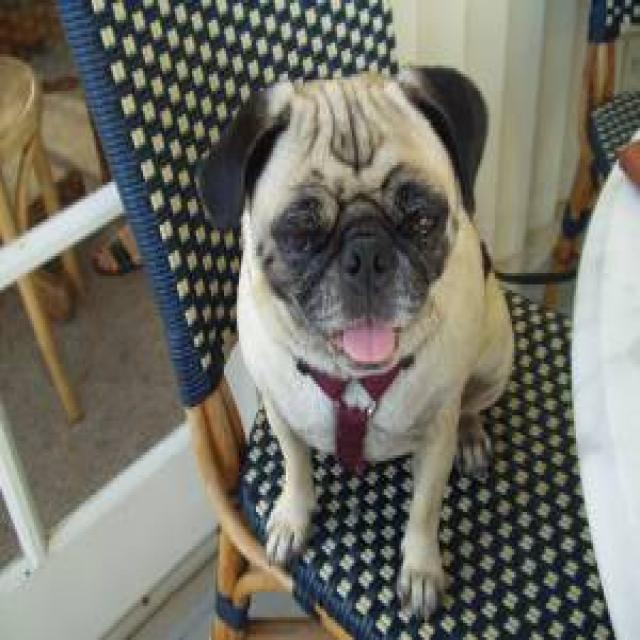dog-pug: (192, 54, 521, 620)
